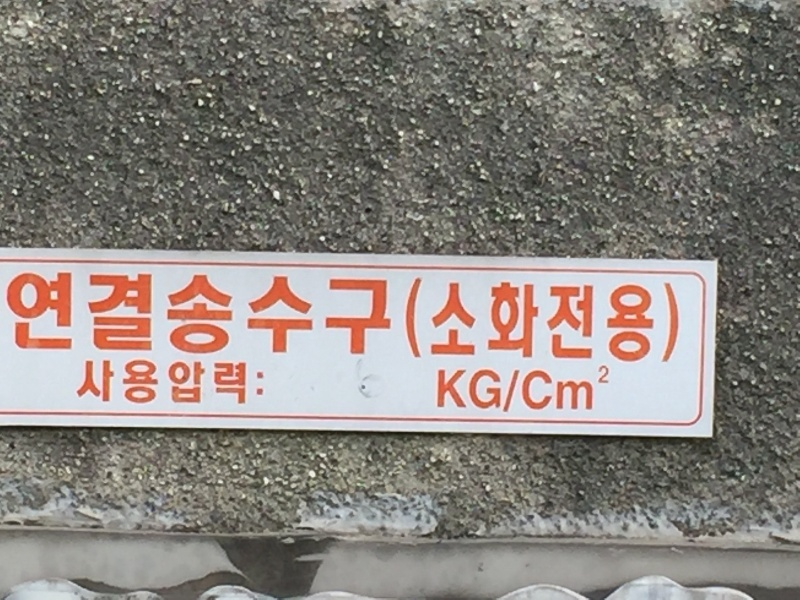text: (417, 276, 432, 367), (433, 276, 448, 367), (449, 276, 464, 367), (465, 276, 480, 367), (481, 276, 496, 367), (497, 276, 512, 367), (513, 276, 528, 367), (529, 276, 544, 367), (545, 276, 560, 367), (561, 276, 576, 367), (577, 276, 592, 367), (593, 276, 608, 367), (609, 276, 624, 367), (625, 276, 640, 367), (641, 276, 656, 367), (657, 276, 672, 367), (17, 269, 32, 359), (33, 269, 48, 359), (49, 269, 64, 359), (65, 269, 80, 359), (81, 269, 96, 359), (97, 269, 112, 359), (113, 269, 128, 359), (129, 269, 144, 359), (145, 269, 160, 359), (161, 269, 176, 359), (177, 269, 192, 359), (193, 269, 208, 359), (209, 269, 224, 359), (225, 269, 240, 359), (241, 269, 256, 359), (257, 269, 272, 359), (273, 269, 288, 359), (289, 269, 304, 359), (305, 269, 320, 359), (321, 269, 336, 359), (337, 269, 352, 359), (353, 269, 368, 359), (369, 269, 384, 359), (402, 276, 416, 367), (4, 269, 16, 359), (673, 276, 681, 367), (385, 269, 393, 359), (449, 367, 464, 415), (465, 367, 480, 415), (481, 367, 496, 415), (497, 367, 512, 415), (513, 367, 528, 415), (529, 367, 544, 415), (545, 367, 560, 415), (561, 367, 576, 415), (577, 367, 592, 415), (81, 359, 96, 406), (97, 359, 112, 406), (113, 359, 128, 406), (129, 359, 144, 406), (145, 359, 160, 406), (161, 359, 176, 406), (177, 359, 192, 406), (193, 359, 208, 406), (209, 359, 224, 406), (225, 359, 240, 406), (241, 359, 256, 406), (438, 367, 448, 415), (257, 359, 264, 406), (599, 365, 608, 386), (76, 359, 80, 406), (593, 367, 596, 415), (609, 365, 611, 386)
